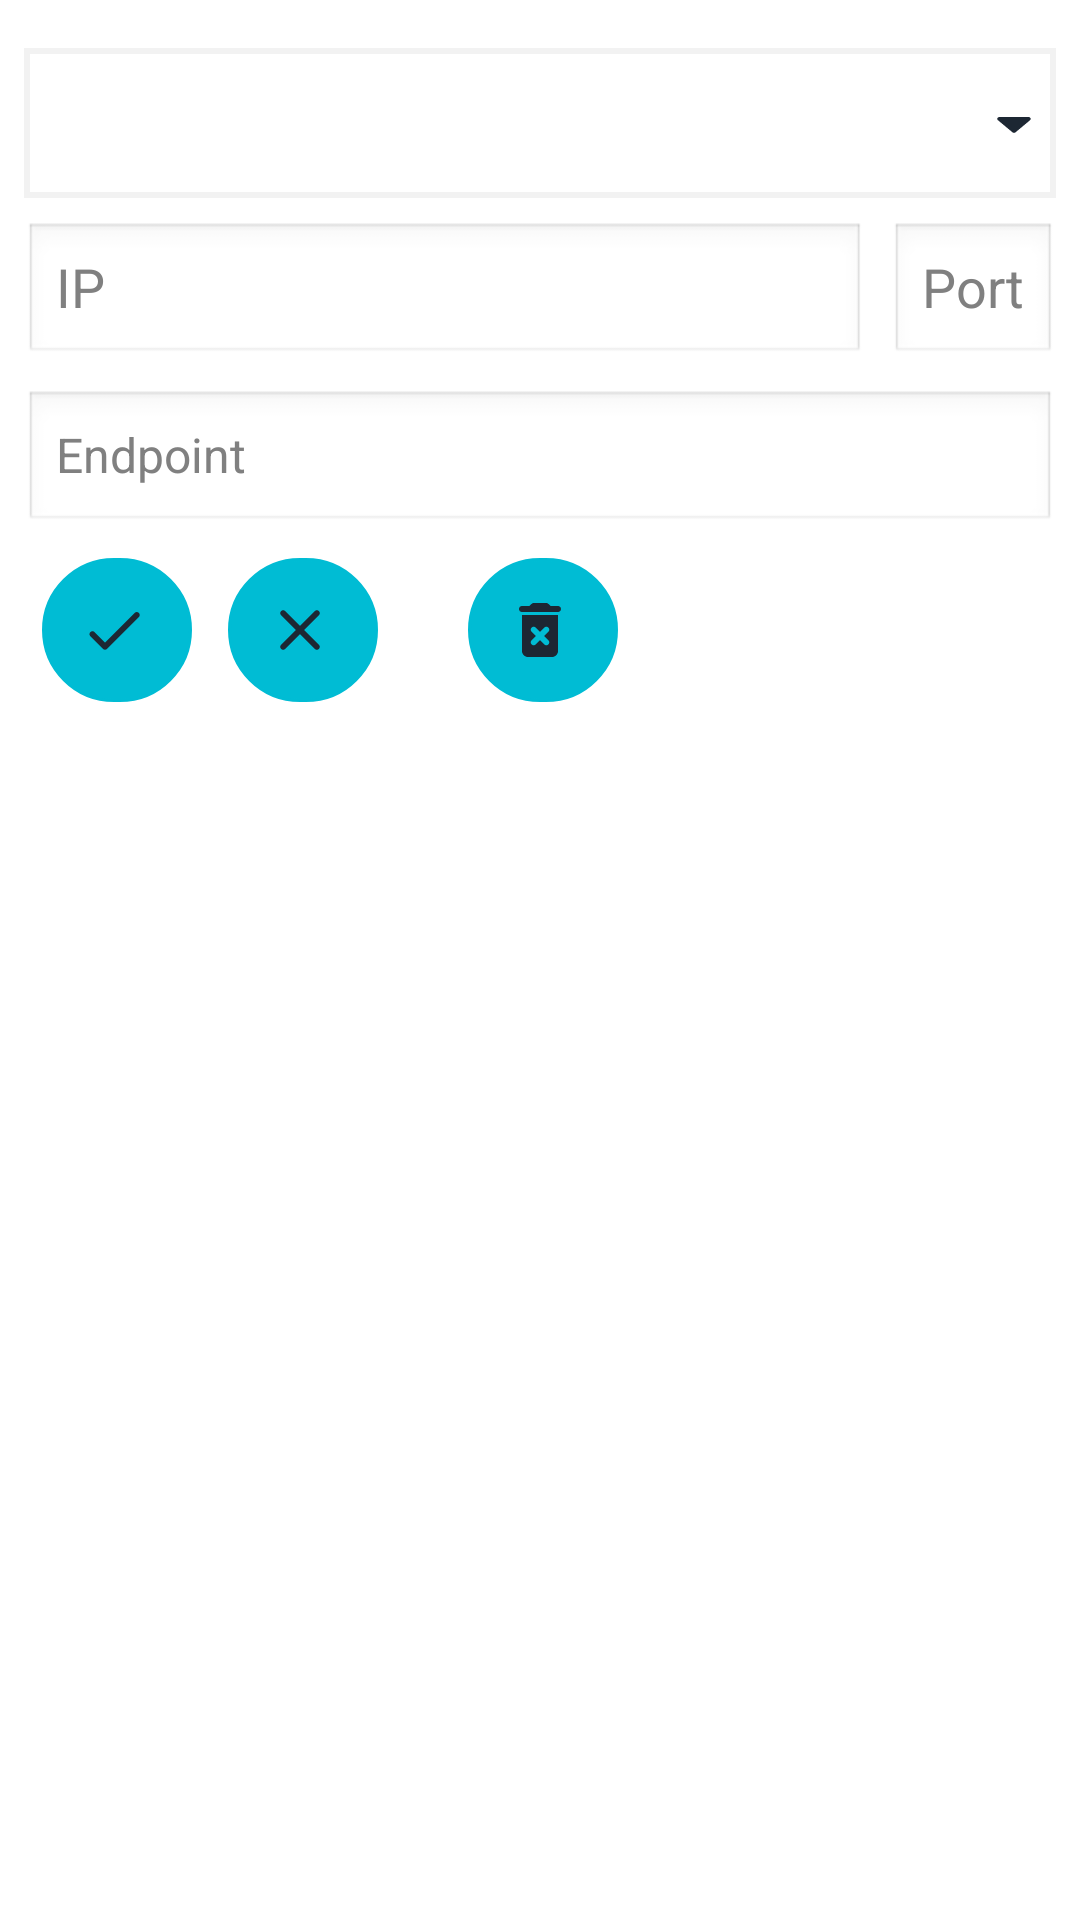

Icons on this 1080 × 1920 Android screen, each with the point to tap as (x,y):
dropdown: (1014,125)
